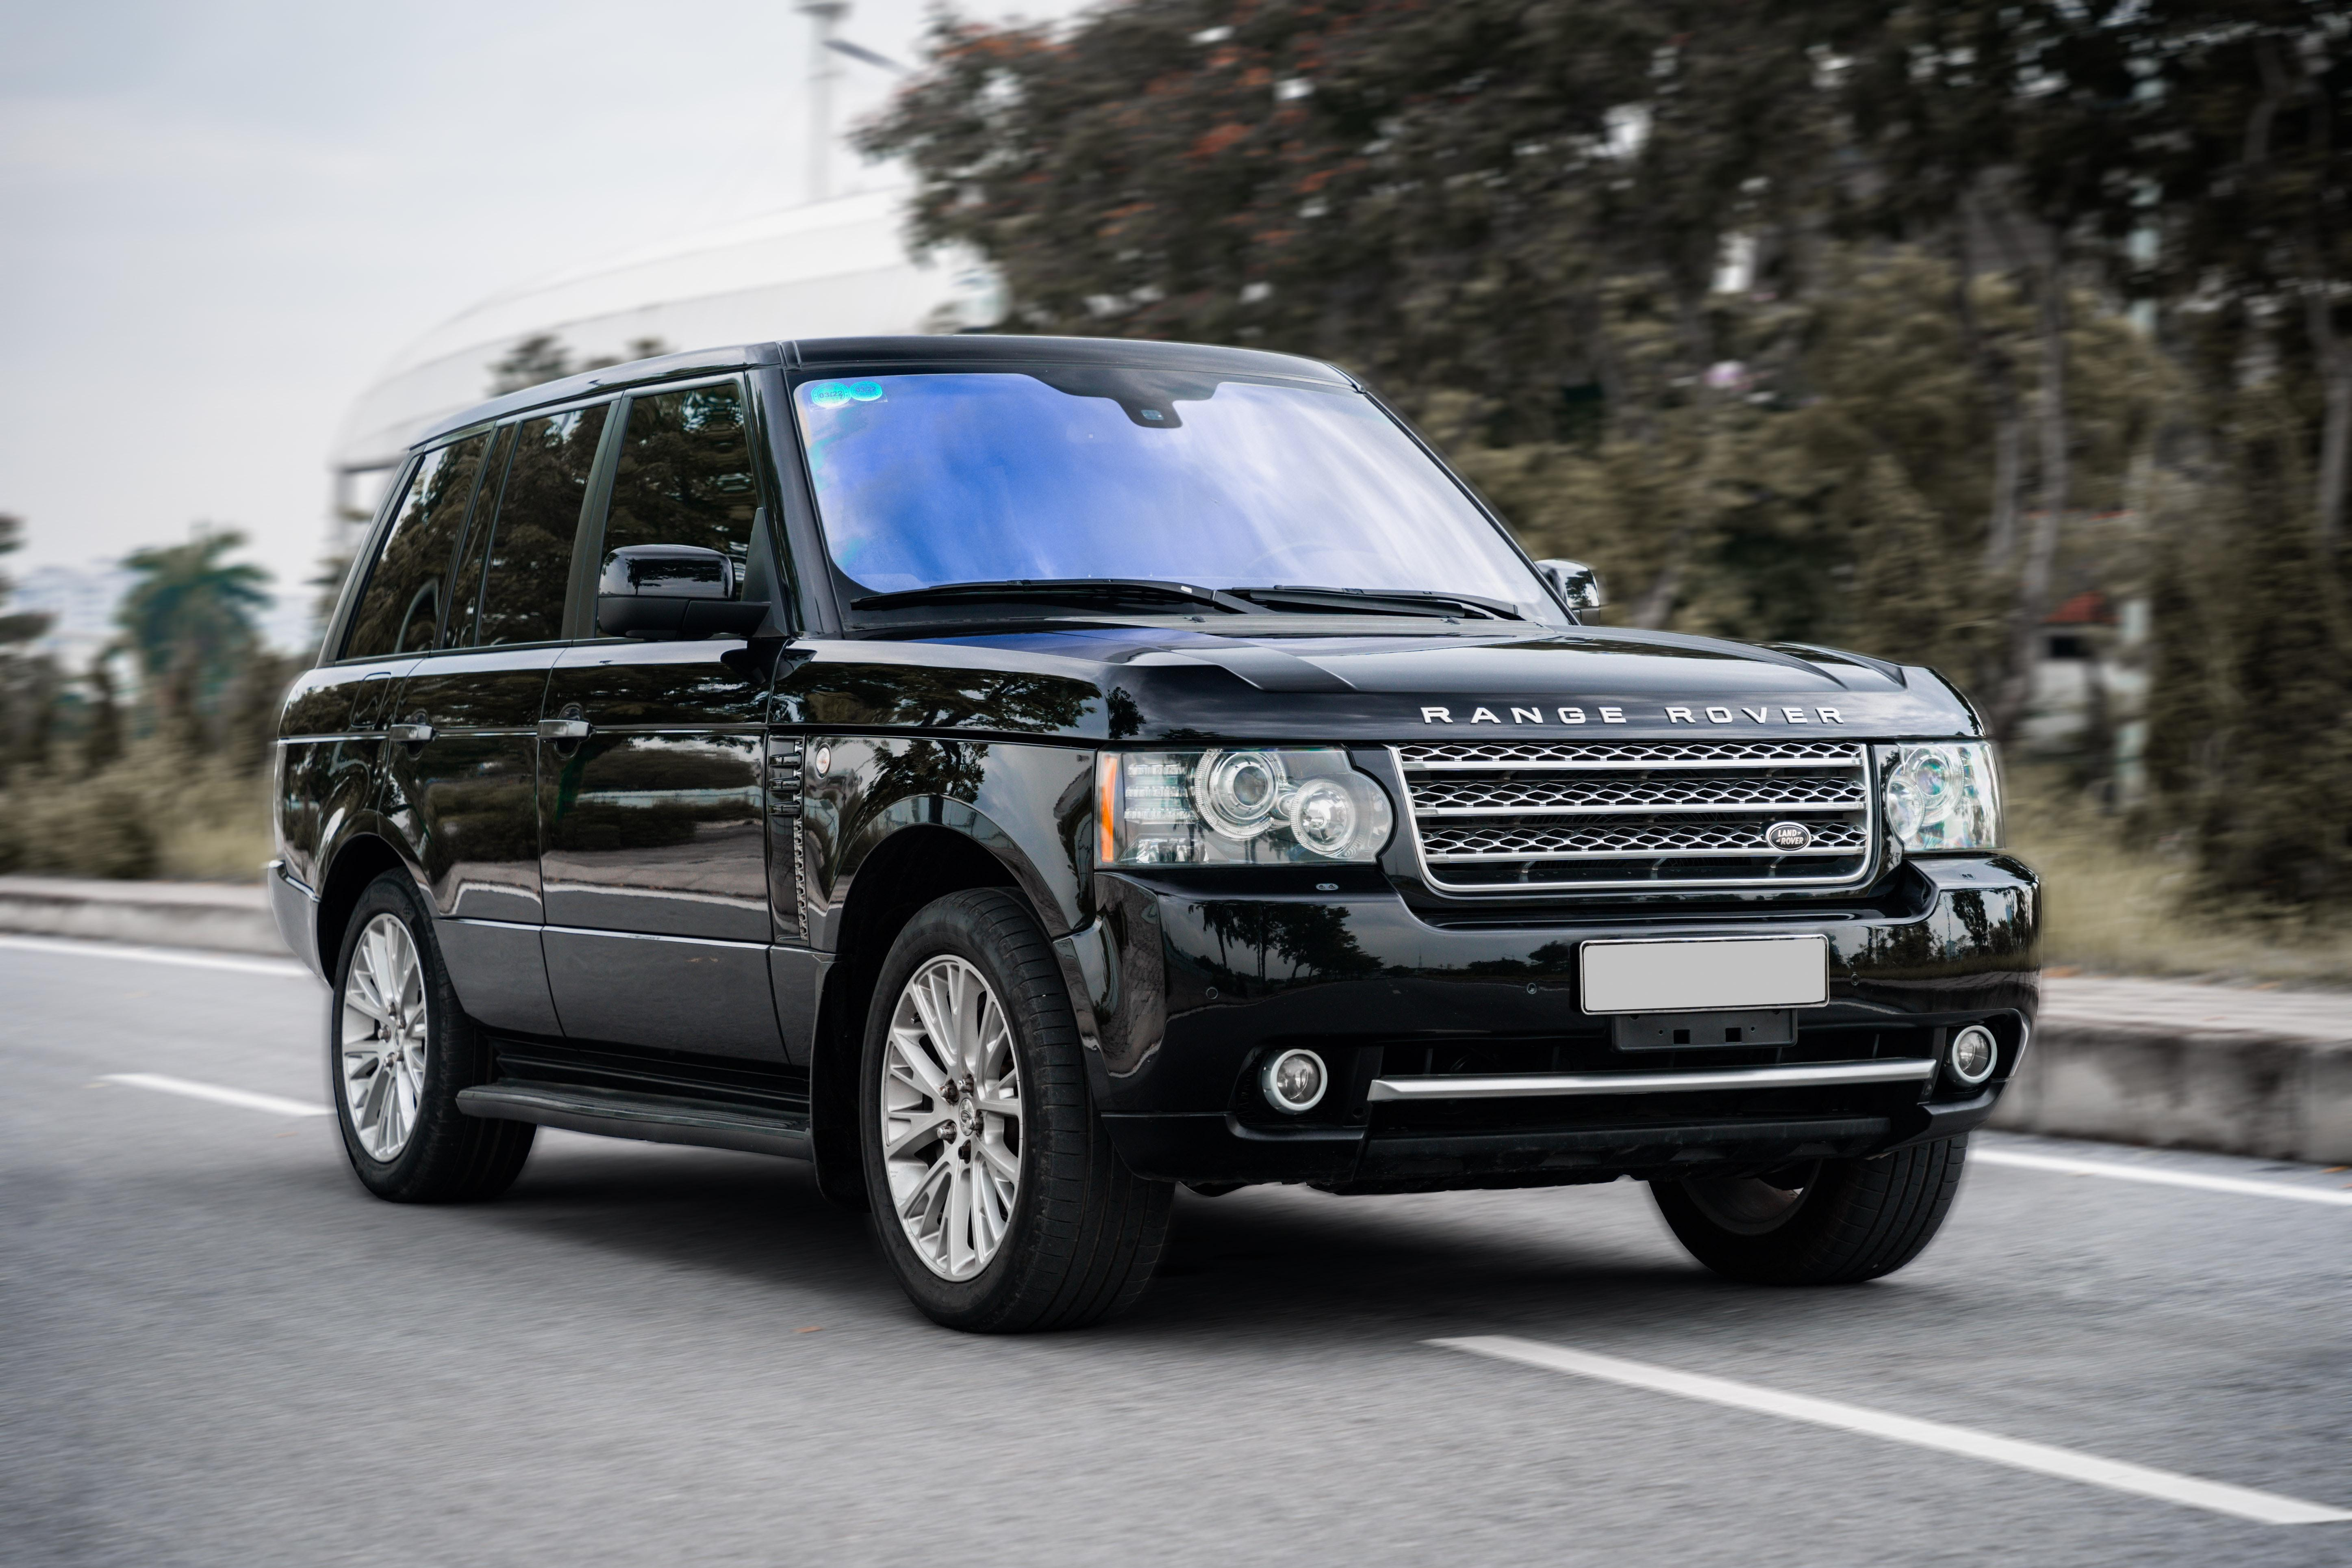range rover: (1405, 684, 1862, 742)
